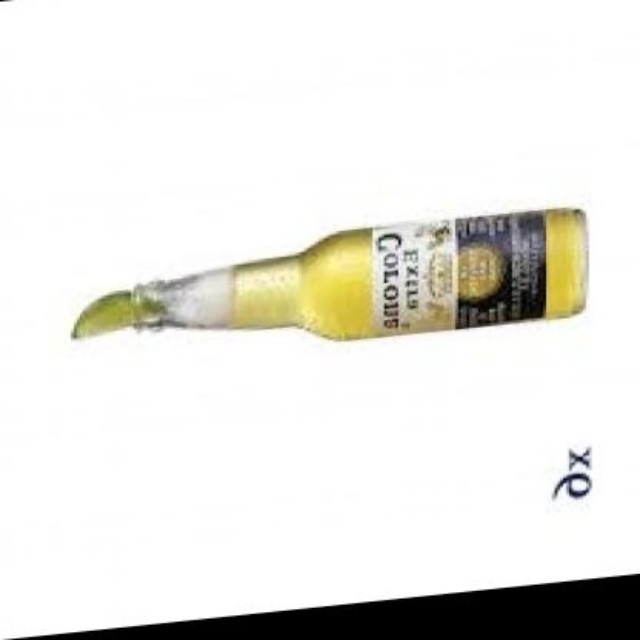trash: (72, 208, 586, 338)
